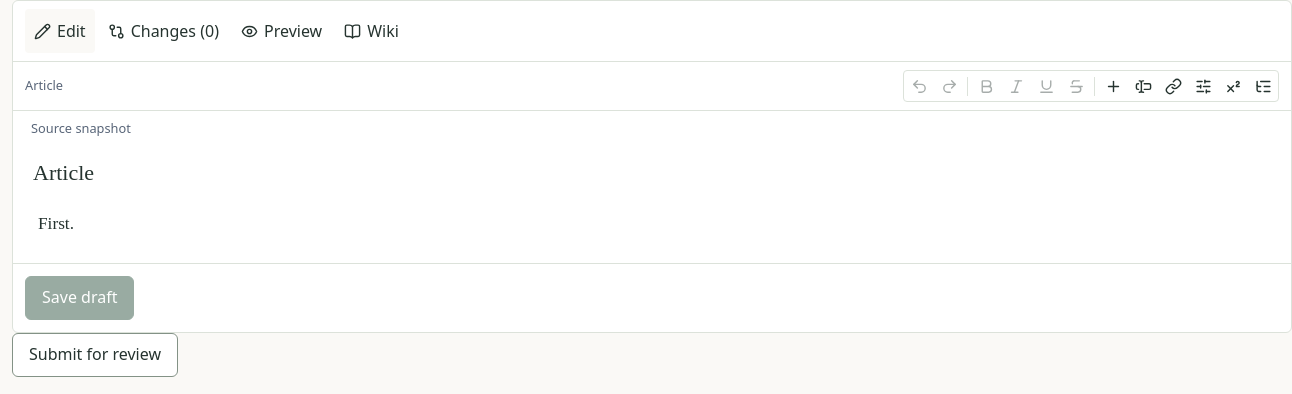
Test: compact structured editor acceptance › fetches an unloaded saved root even when its projection has a draft token
The width and height of the screenshot is (1292, 394).
Click the button named "Editor view" at (1263, 86), box [1248, 71, 1278, 101]
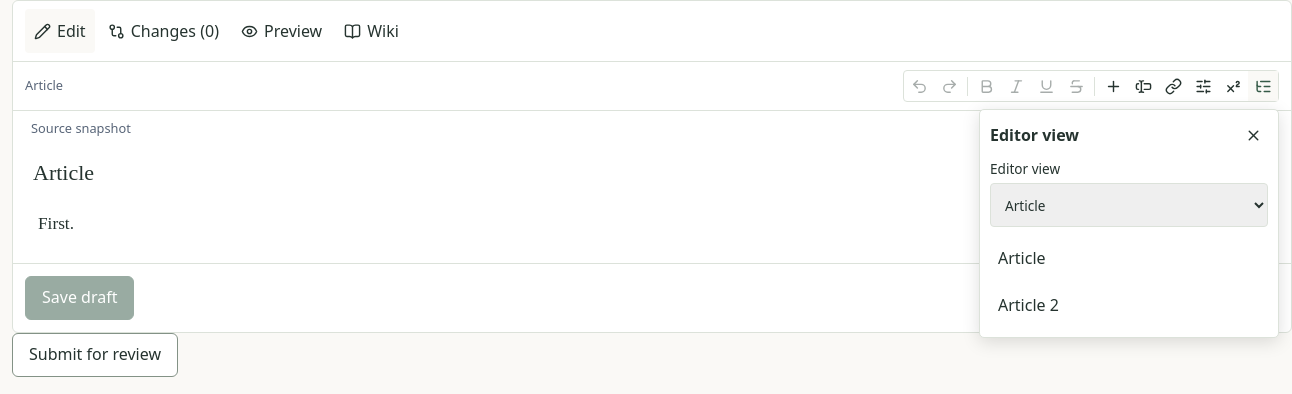
Now the button "Article 2" is shown
Click the button "Article 2" at (1022, 305), box [990, 283, 1268, 327]
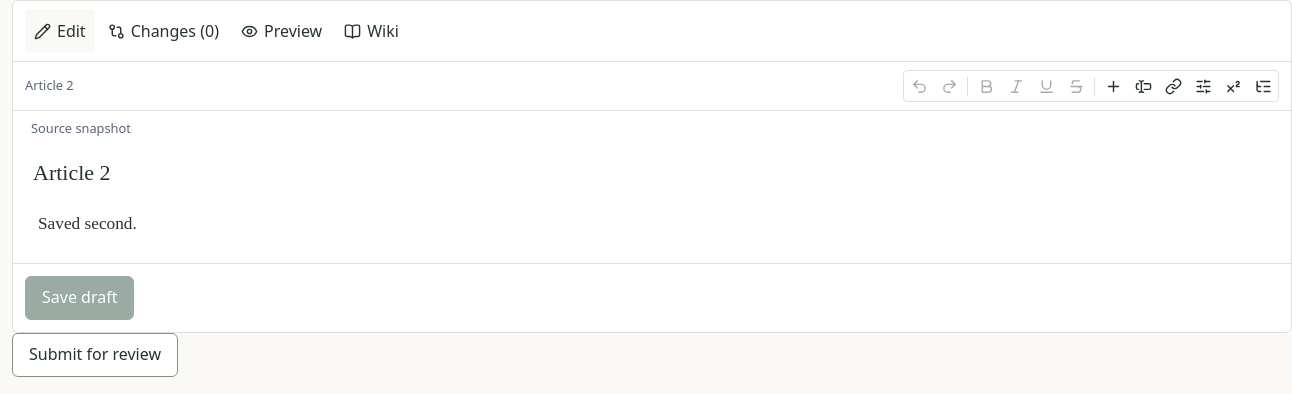
Now the text "Saved second." is shown, box [38, 214, 137, 233]
